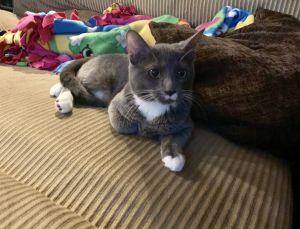rblue: (120, 15, 207, 113)
